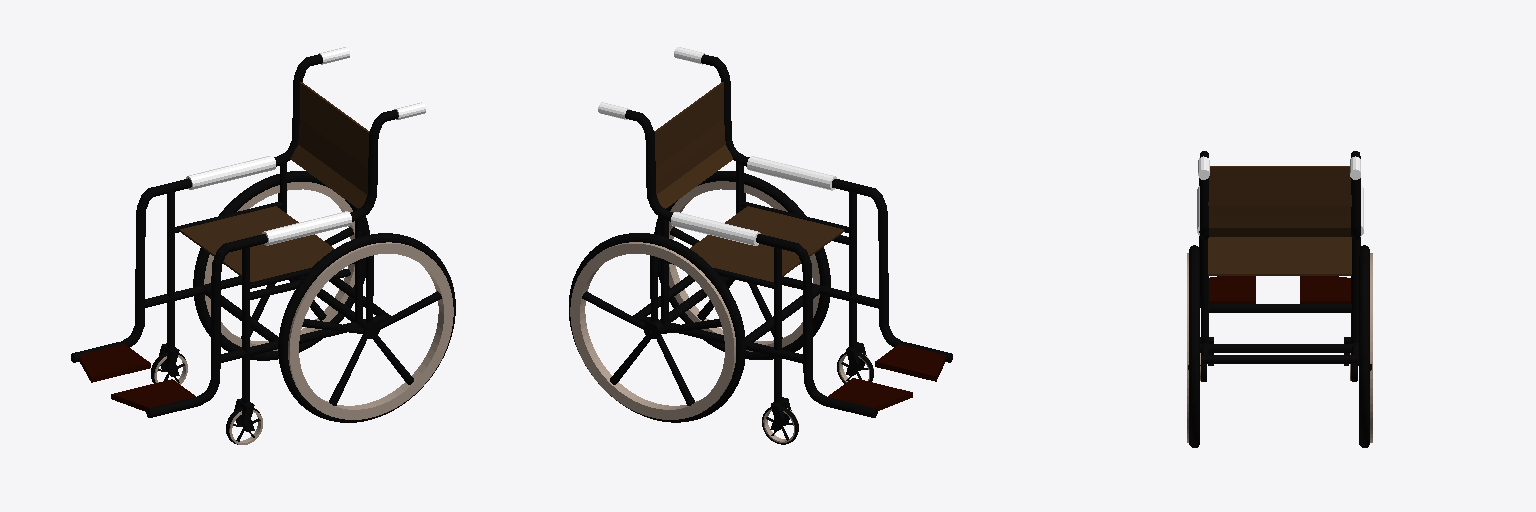
Rendered from Wheelchair_1367.obj.
3 renders of one model, left to right at view 1: azimuth 30°, elevation 25°; view 2: azimuth 150°, elevation 25°; view 3: azimuth 270°, elevation 25°, orthographic.
Visible parts, largest first — view 1: Box002; view 2: Box002; view 3: Box002.
Boxes of the visible parts, box(x1,y1,x2,y2) form: Box002: box(71, 47, 455, 444); Box002: box(569, 47, 952, 444); Box002: box(1187, 151, 1372, 447).
Bounding box in the file's own units: 22.88 × 20.9 × 11.83.